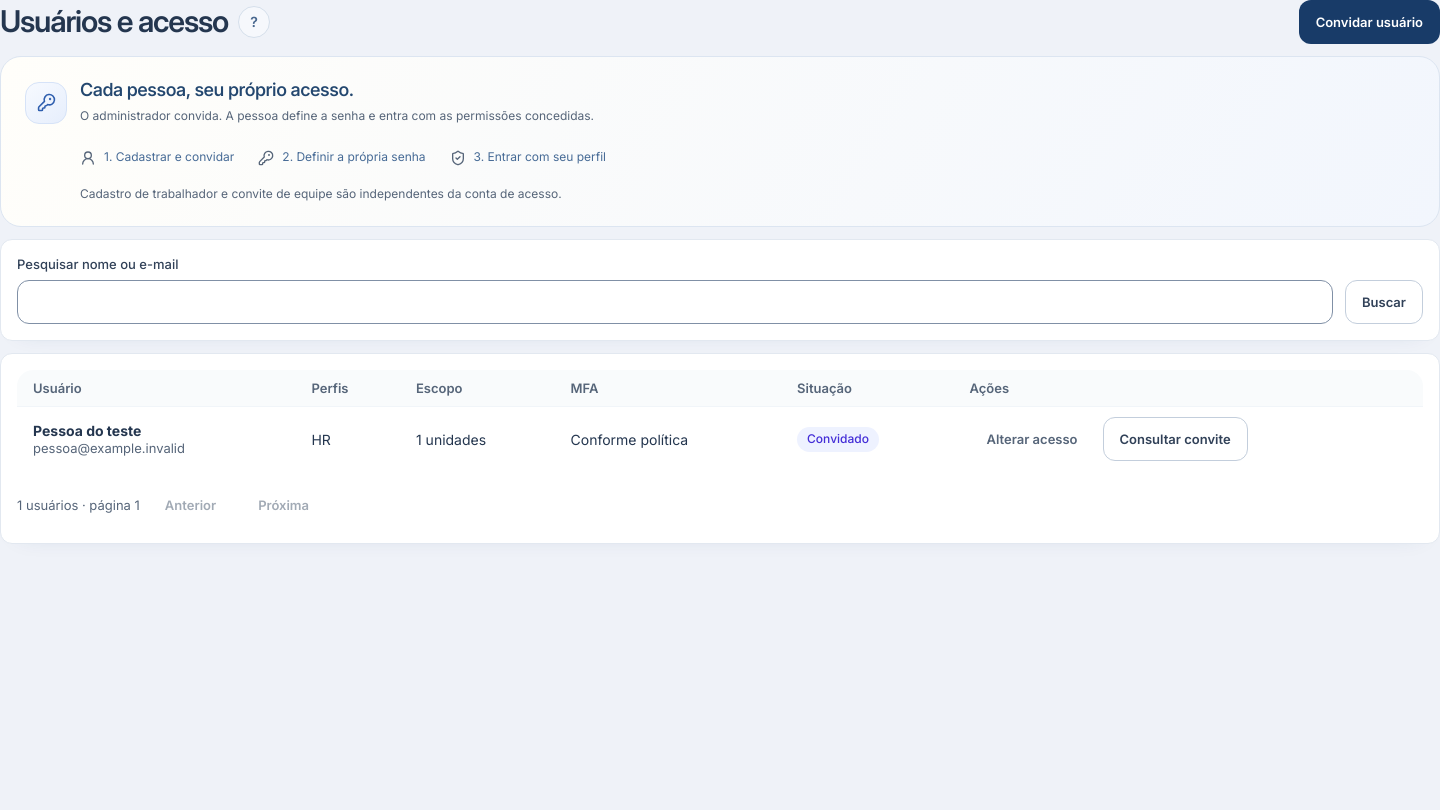
Test case: Escopo autorizado e desativação explícita de usuários › consulta o convite da pessoa e abre o roteiro de primeiro acesso em diálogo próprio
Click the button "Consultar convite": (1175, 439) [1102,417,1248,461]
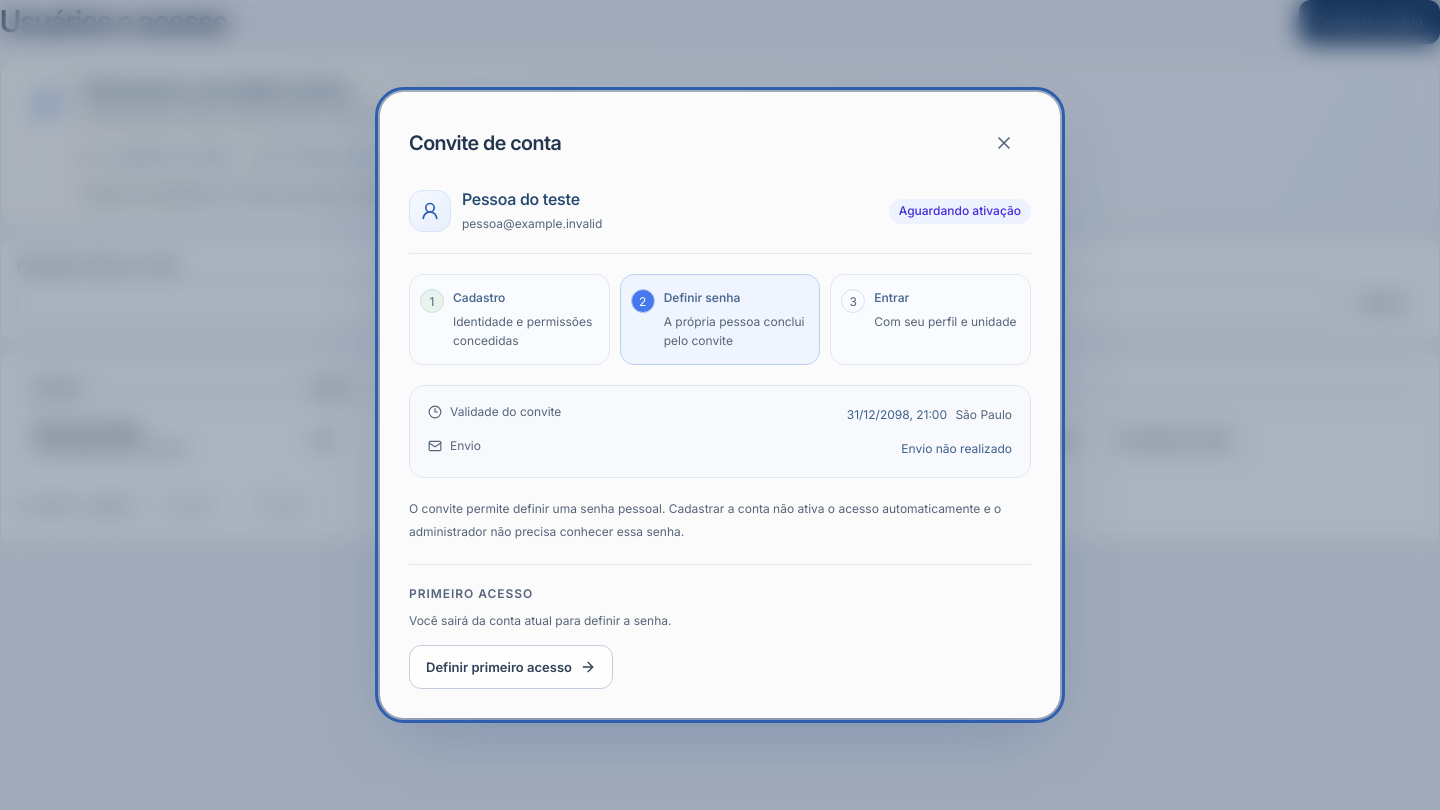
Check: the heading "Pessoa do teste" is shown, box [462,189,580,209]
Check: the text "Envio não realizado" is shown, box [901,439,1012,459]
Check: the number of dialogs is 1, box [380,92,1060,718]
